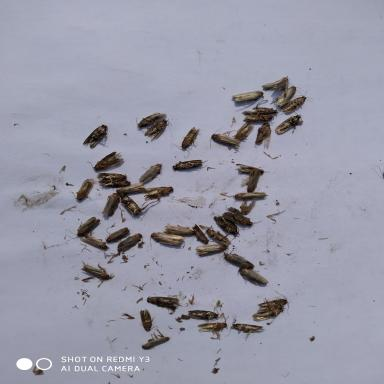pbw: (229, 313, 267, 344), (108, 191, 150, 219), (168, 126, 204, 158), (84, 145, 124, 172), (229, 99, 306, 113), (74, 124, 114, 149), (78, 259, 118, 283), (170, 151, 210, 175), (222, 247, 261, 271), (132, 109, 172, 132), (208, 126, 243, 152), (114, 229, 150, 254), (180, 220, 216, 244), (210, 214, 244, 239), (273, 109, 304, 136), (68, 175, 96, 203), (133, 160, 167, 183), (280, 90, 310, 116), (250, 289, 288, 309), (143, 116, 171, 143), (136, 332, 172, 353), (142, 182, 175, 204), (145, 294, 183, 313), (216, 209, 258, 226), (248, 306, 290, 323), (224, 122, 258, 143), (113, 175, 148, 195), (237, 267, 269, 288), (271, 84, 299, 108), (75, 217, 105, 238), (261, 75, 294, 94), (185, 306, 224, 322), (78, 232, 114, 249), (99, 190, 120, 219), (147, 232, 185, 248), (135, 307, 158, 333), (102, 224, 131, 244), (254, 119, 274, 148), (198, 322, 230, 340), (194, 243, 232, 258), (236, 158, 270, 174), (207, 226, 233, 246), (160, 224, 196, 237), (247, 169, 267, 192), (231, 201, 261, 216), (232, 89, 264, 103), (232, 191, 272, 202), (95, 178, 130, 189), (96, 168, 128, 180), (236, 111, 286, 117), (240, 115, 277, 123)
